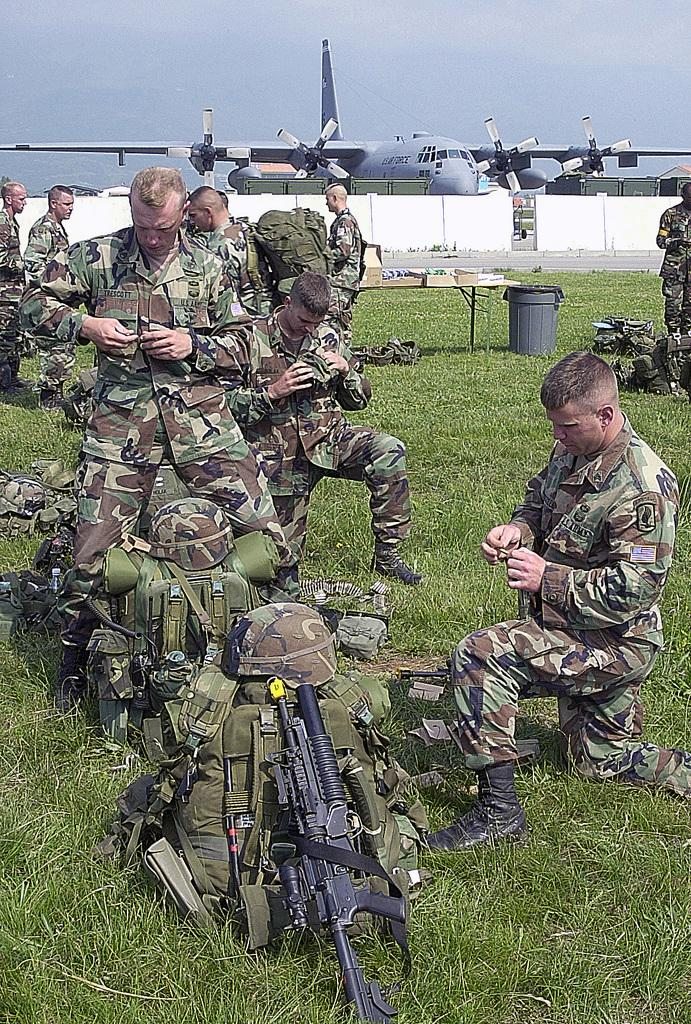Rifle: (239, 654, 411, 1011)
